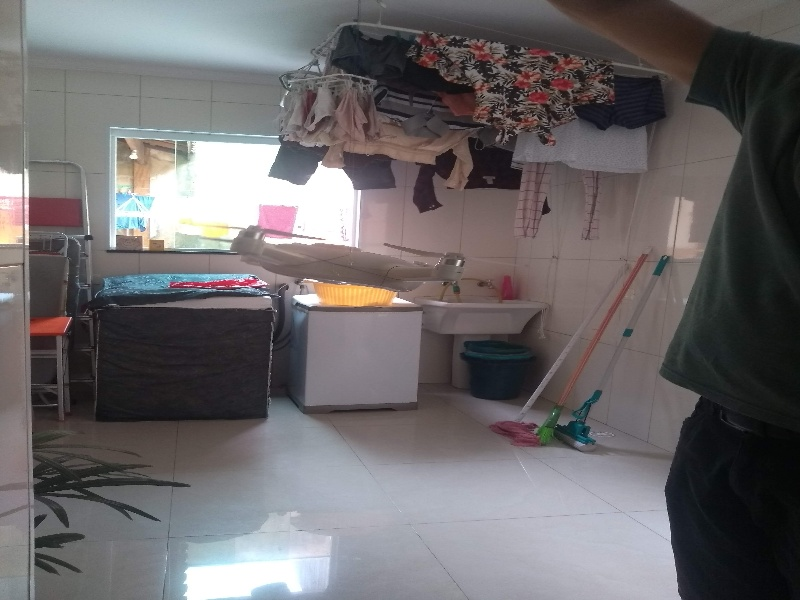drone: (215, 214, 498, 301)
